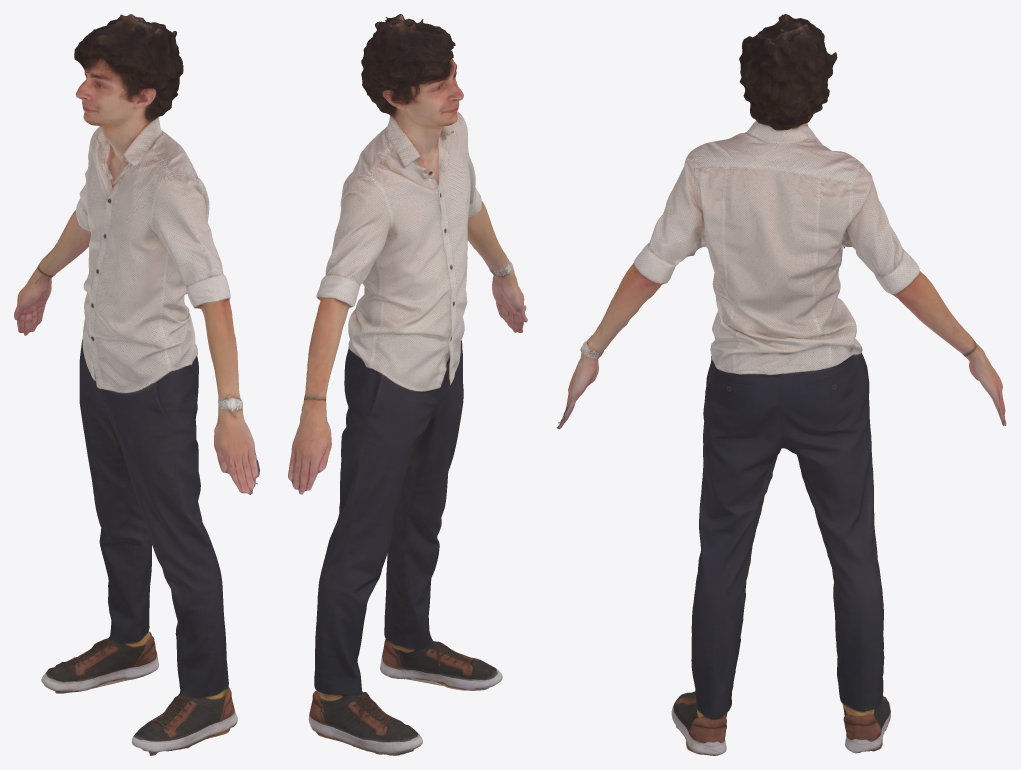
The model's file is luis_in_3d.glb.
3 renders of one model, left to right at view 1: azimuth 30°, elevation 25°; view 2: azimuth 150°, elevation 25°; view 3: azimuth 270°, elevation 25°, orthographic. The views are drawn at different scales.
Visible parts, largest first — view 1: Model; view 2: Model; view 3: Model.
Part boxes in pixels (box(x1,y1,x2,y2)): Model: box(14, 14, 259, 755); Model: box(288, 14, 527, 755); Model: box(557, 14, 1006, 755).
Bounding box in the file's own units: 0.3331 × 1.82 × 1.06.
Materials: 1 (1 with a texture image).
